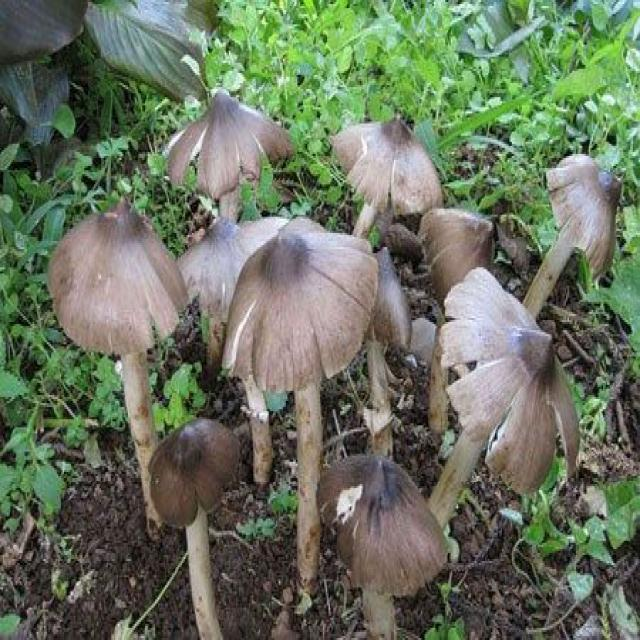Collybia albuminosa: (225, 238, 378, 587), (48, 203, 187, 531), (427, 267, 579, 533), (318, 451, 446, 640), (152, 414, 242, 637), (163, 89, 293, 222), (523, 154, 621, 326), (331, 118, 443, 243)
